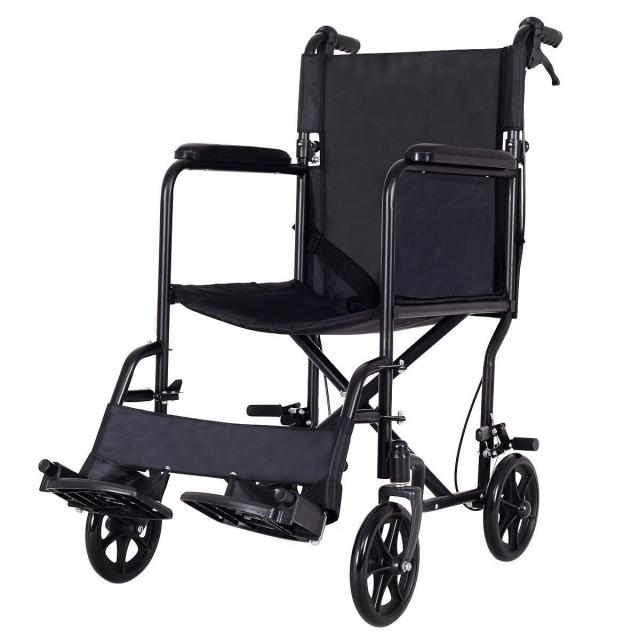wheelchair: (24, 9, 590, 633)
